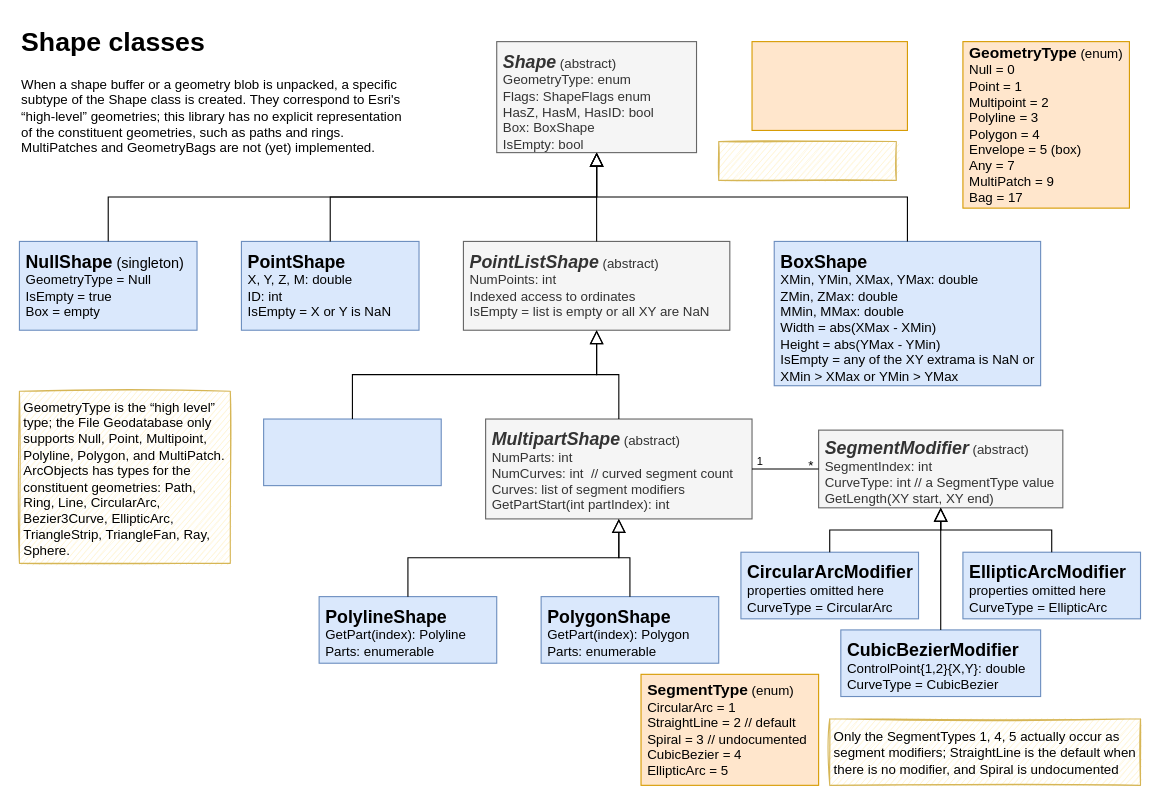
The diagram is 1160 pixels wide and 805 high, and some of its shapes have lost their labels. Each missing label, with the box of its shape:
HasZ, HasM, HasID are just convenient aliases for Flags: (718, 140, 896, 180)
MultipointShape: (263, 418, 441, 486)
ShapeFlags (enum) None = 0 HasZ = 1 HasM = 2 HasID = 4: (751, 41, 907, 130)
